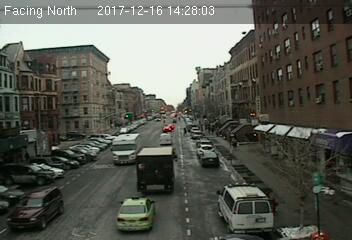car: (5, 185, 67, 232), (116, 196, 155, 232), (199, 152, 219, 166)
police: (216, 182, 277, 233)
truck: (111, 133, 142, 163), (159, 133, 172, 144)
ups: (135, 147, 177, 193)
